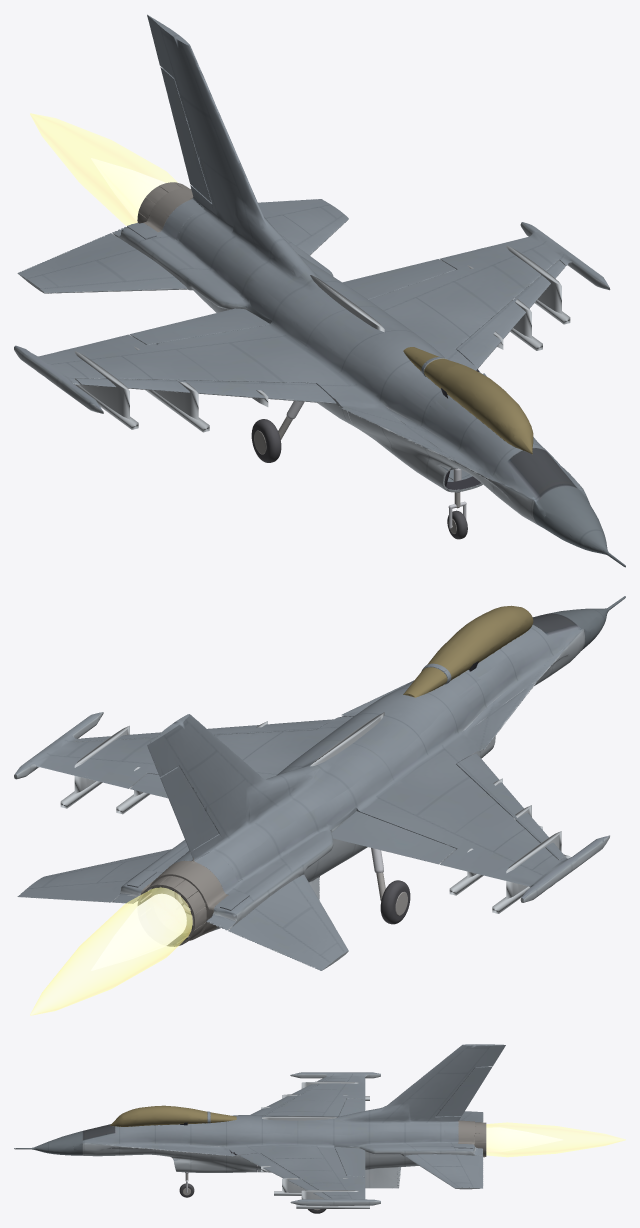
3 views of the same model, one above another, from view 1: azimuth 30°, elevation 25°; view 2: azimuth 150°, elevation 25°; view 3: azimuth 270°, elevation 25° (orthographic). The views are drawn at different scales.
Parts seen in each view (by area): view 1: fsim:section:tail, fsim:section:centre, fsim:section:nose, fsim:section:right-wing, fsim:section:left-wing, fsim:afterburner:0, fsim:elevator+aileron:-0.25@-25,25, fsim:lef@-2,25 (×2), fsim:elevator+aileron:0.25@-25,25, fsim:aileron+flaps:-1@-21.5,21.5, fsim:aileron+flaps:1@-21.5,21.5, fsim:rudder (+4 smaller); view 2: fsim:section:tail, fsim:section:centre, fsim:section:right-wing, fsim:section:nose, fsim:afterburner:0, fsim:section:left-wing, fsim:elevator+aileron:-0.25@-25,25, fsim:elevator+aileron:0.25@-25,25, fsim:lef@-2,25 (×2), fsim:aileron+flaps:-1@-21.5,21.5, fsim:rudder, fsim:wheel:2:0.3525 (+3 smaller); view 3: fsim:section:tail, fsim:section:centre, fsim:section:nose, fsim:section:left-wing, fsim:afterburner:0, fsim:section:right-wing, fsim:elevator+aileron:0.25@-25,25, fsim:lef@-2,25 (×2), fsim:rudder, fsim:aileron+flaps:1@-21.5,21.5, fsim:station:2, fsim:station:3 (+2 smaller).
Boxes of the visible parts, x1,y1,x2,y2 form: fsim:section:tail: (14,14,558,379); fsim:section:centre: (41,241,610,486); fsim:section:nose: (404,365,625,567); fsim:section:right-wing: (28,302,374,407); fsim:section:left-wing: (369,229,575,370); fsim:afterburner:0: (30,113,177,225); fsim:elevator+aileron:-0.25@-25,25: (17,233,187,293); fsim:lef@-2,25 (×2): (75,260,565,403); fsim:elevator+aileron:0.25@-25,25: (258,199,348,255); fsim:aileron+flaps:-1@-21.5,21.5: (130,308,269,344); fsim:aileron+flaps:1@-21.5,21.5: (342,259,455,299); fsim:rudder: (160,67,211,202); fsim:section:tail: (14,714,565,940); fsim:section:centre: (45,643,609,879); fsim:section:right-wing: (330,736,578,887); fsim:section:nose: (406,596,625,758); fsim:afterburner:0: (30,887,192,1015); fsim:section:left-wing: (28,716,353,788); fsim:elevator+aileron:-0.25@-25,25: (228,874,348,970); fsim:elevator+aileron:0.25@-25,25: (17,849,171,902); fsim:lef@-2,25 (×2): (75,719,565,860); fsim:aileron+flaps:-1@-21.5,21.5: (332,811,456,864); fsim:rudder: (160,766,218,851); fsim:wheel:2:0.3525: (380,880,410,924); fsim:section:tail: (334,1044,505,1205); fsim:section:centre: (178,1072,354,1205); fsim:section:nose: (14,1105,189,1172); fsim:section:left-wing: (226,1146,367,1200); fsim:afterburner:0: (486,1122,625,1157); fsim:section:right-wing: (266,1072,367,1116); fsim:elevator+aileron:0.25@-25,25: (405,1154,483,1189); fsim:lef@-2,25 (×2): (239,1077,330,1198); fsim:rudder: (436,1066,492,1116); fsim:aileron+flaps:1@-21.5,21.5: (334,1147,365,1177); fsim:station:2: (296,1190,369,1208); fsim:station:3: (274,1178,347,1195).
Size of the model in its own units: 9.42 by 5.18 by 18.87.
13 materials, 1 textured.
